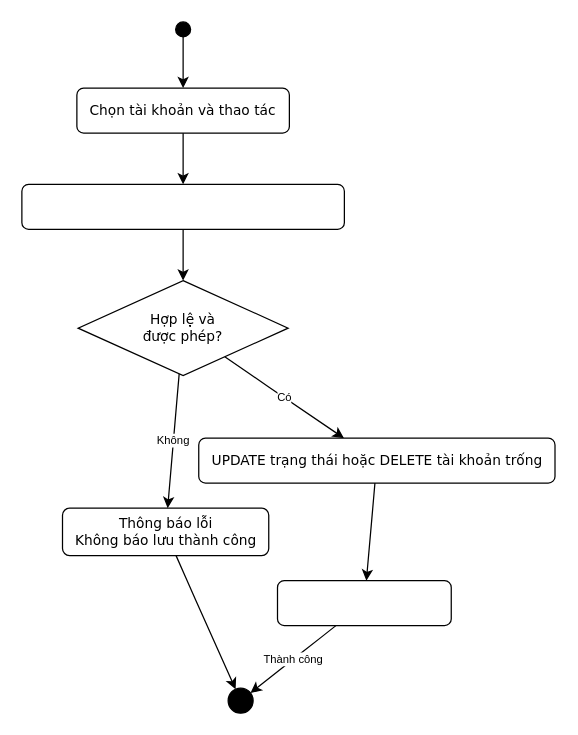
The diagram is 578 pixels wide and 735 high, and some of its shapes have lost their labels. Each missing label, with the centre of its shape:
"Tải lại danh sách SQL" belongs at point 363,602.
"Xác thực Admin và kiểm tra dữ liệu liên kết" belongs at point 182,206.
